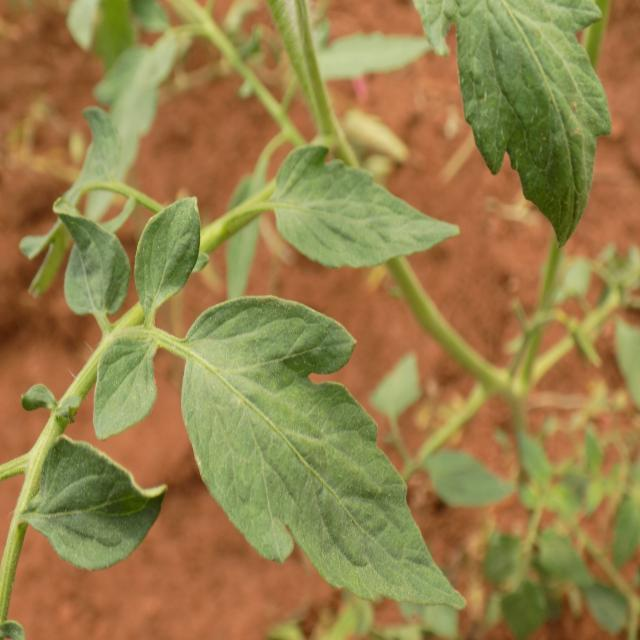tomato_healthy: (183, 296, 462, 608), (413, 0, 612, 245), (274, 142, 461, 270), (32, 431, 166, 572)
